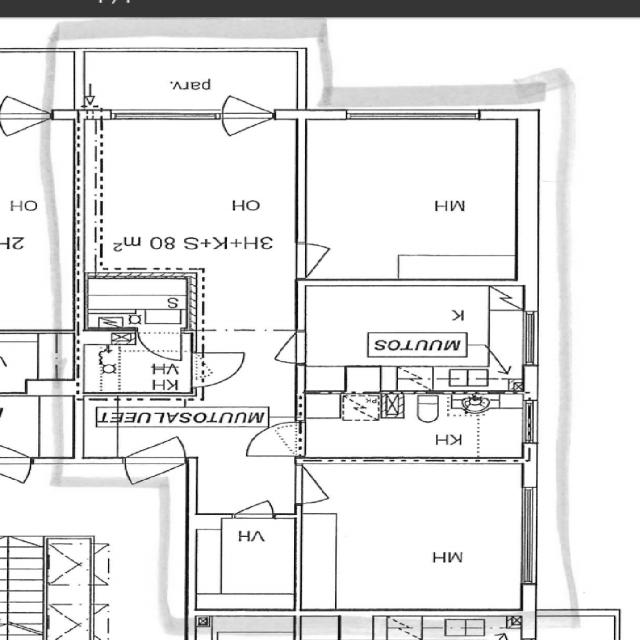door: (118, 432, 190, 479), (215, 93, 275, 139), (0, 92, 49, 137), (242, 422, 302, 458), (191, 350, 246, 388), (137, 326, 186, 364), (292, 464, 332, 506), (269, 328, 306, 366), (294, 241, 332, 277), (0, 450, 36, 487), (232, 495, 278, 520)
window: (512, 486, 544, 587), (338, 105, 490, 124), (102, 106, 218, 125), (517, 308, 544, 369), (516, 398, 542, 448)
zone: (289, 459, 533, 614), (300, 115, 519, 282), (78, 117, 303, 272), (296, 284, 529, 390), (371, 391, 529, 462), (0, 105, 50, 317), (192, 515, 296, 612), (81, 329, 190, 394), (82, 278, 194, 329), (0, 332, 64, 394), (382, 615, 524, 640), (128, 327, 190, 377), (513, 611, 617, 640), (191, 613, 296, 640)
